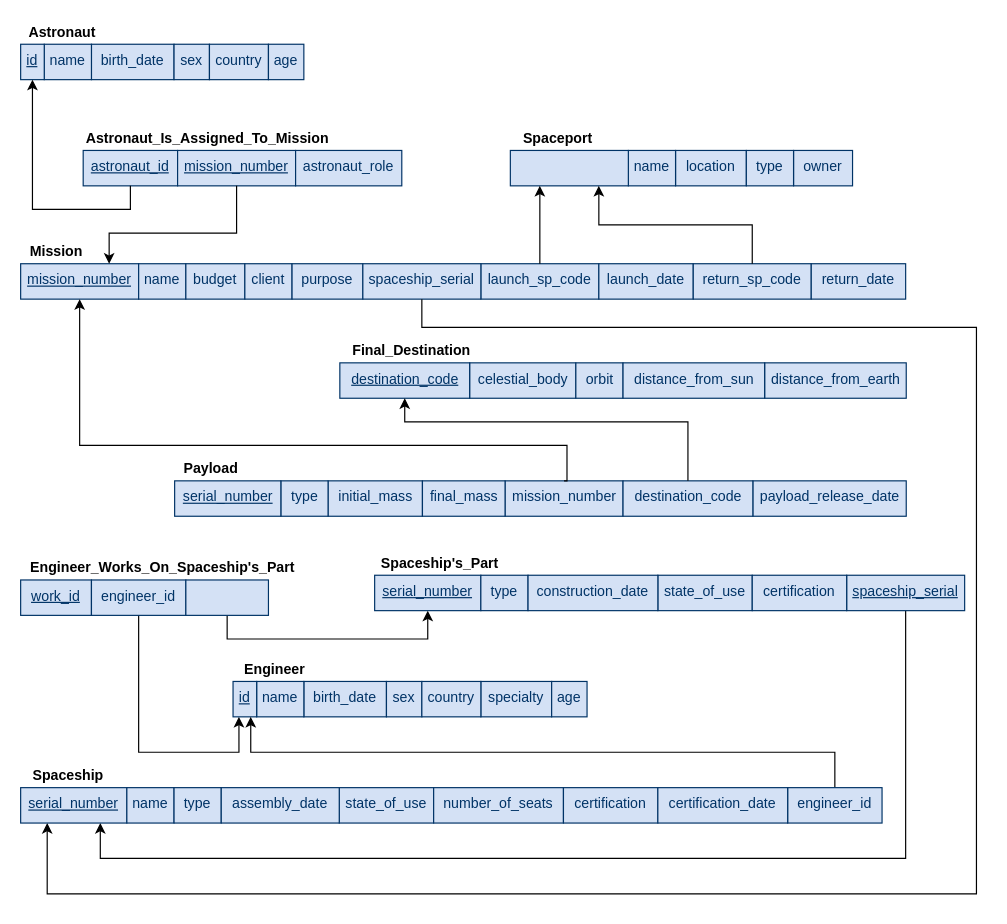
Image size: 1007x924. Some labels were removed from this diagram. The centre of each missing label's shape, as x and y in pixels:
"part_serial" belongs at (x=226, y=597).
"spaceport_code" belongs at (x=568, y=167).
